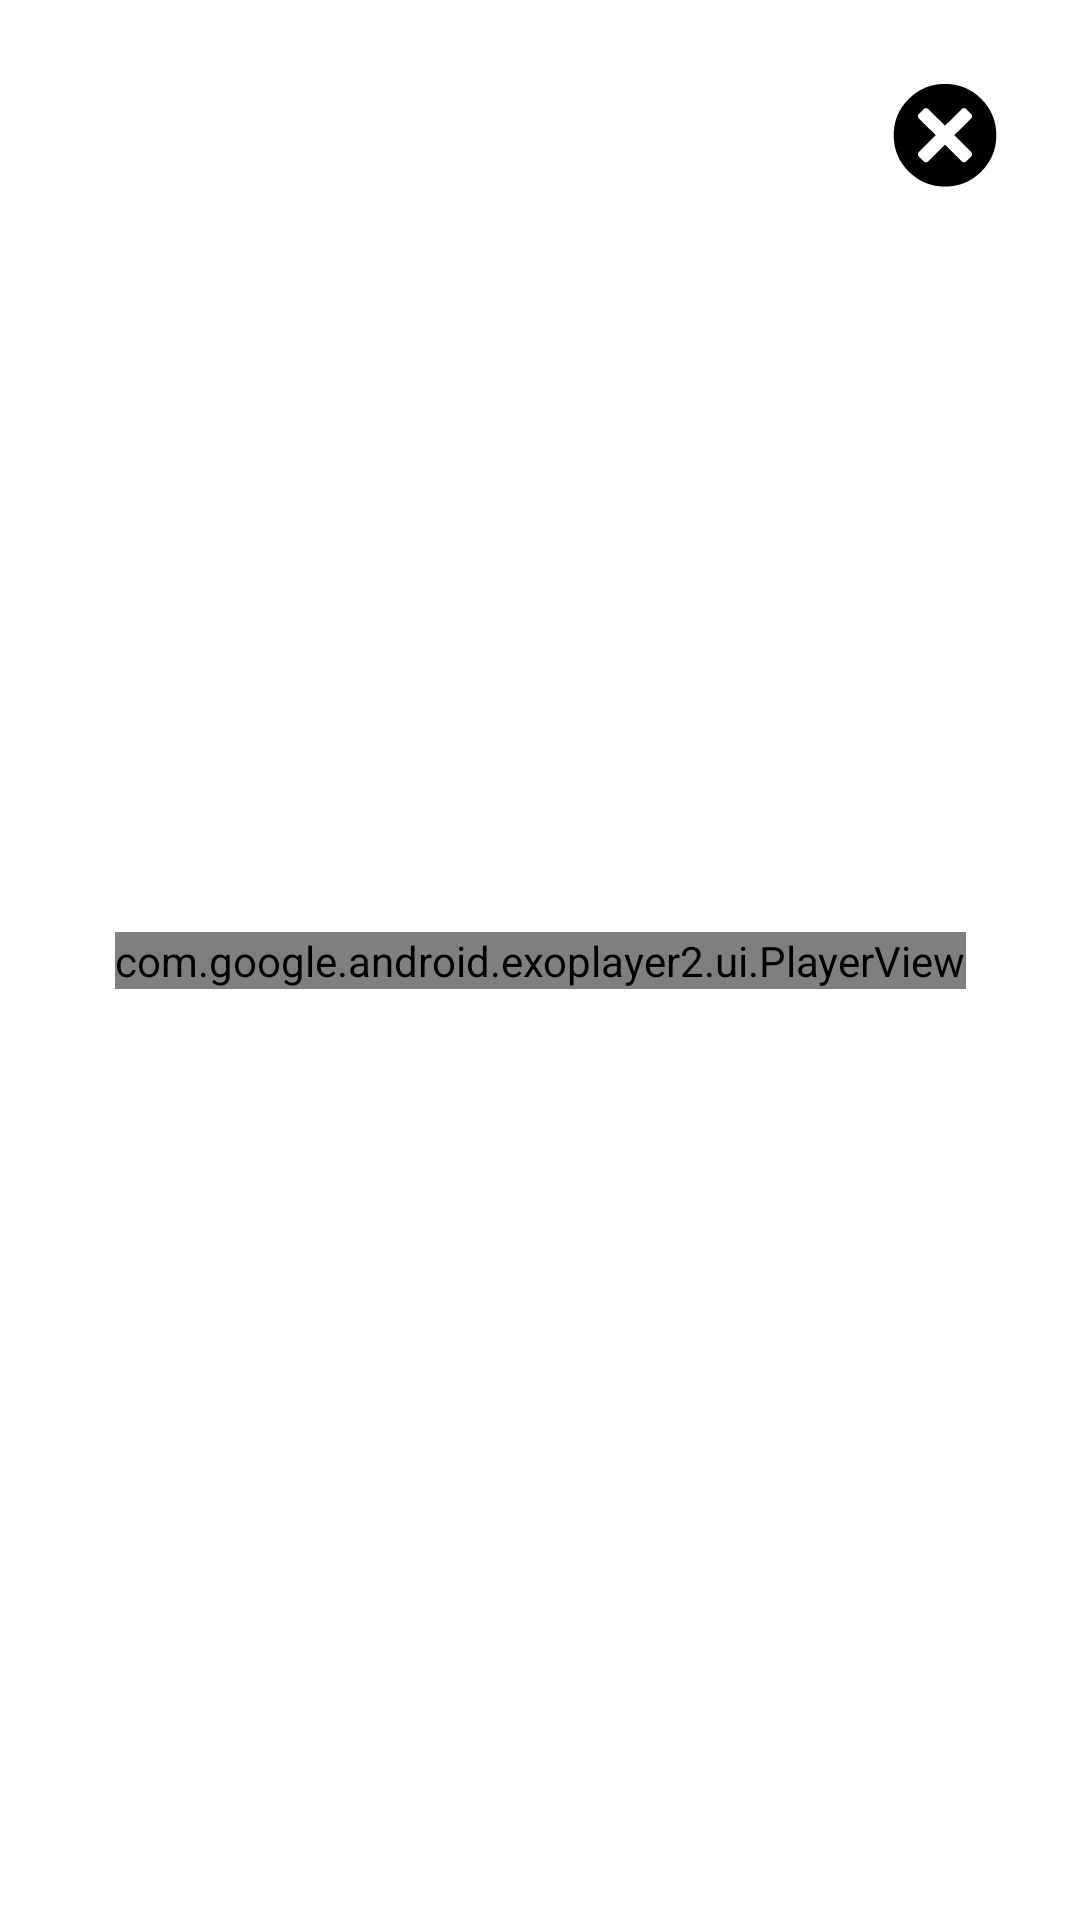

Screen size 1080w x 1920h. Icon name, then its box in pixels as Rect(x1, y1, x2, y2):
close: Rect(893, 84, 997, 187)
